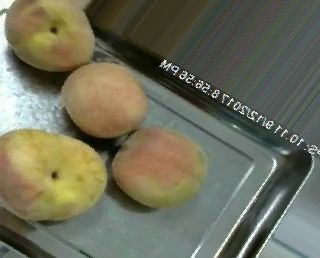Peach: (0, 129, 106, 221), (110, 127, 209, 208), (61, 61, 147, 138), (4, 0, 95, 71)
